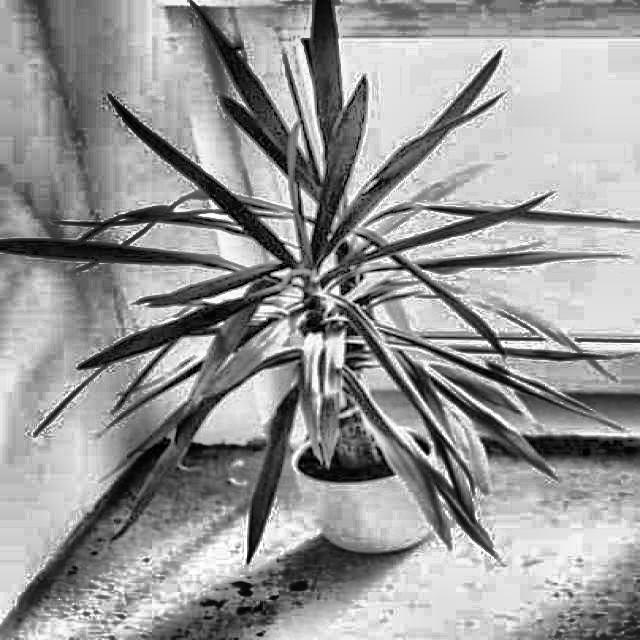plants: (26, 8, 638, 556)
